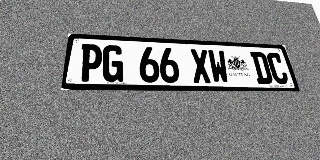6: (139, 46, 160, 83), (159, 47, 180, 83)
C: (265, 52, 290, 84)
D: (250, 52, 274, 84)
G: (102, 45, 124, 82)
P: (78, 44, 103, 82)
W: (207, 50, 230, 83)
X: (189, 49, 212, 83)
